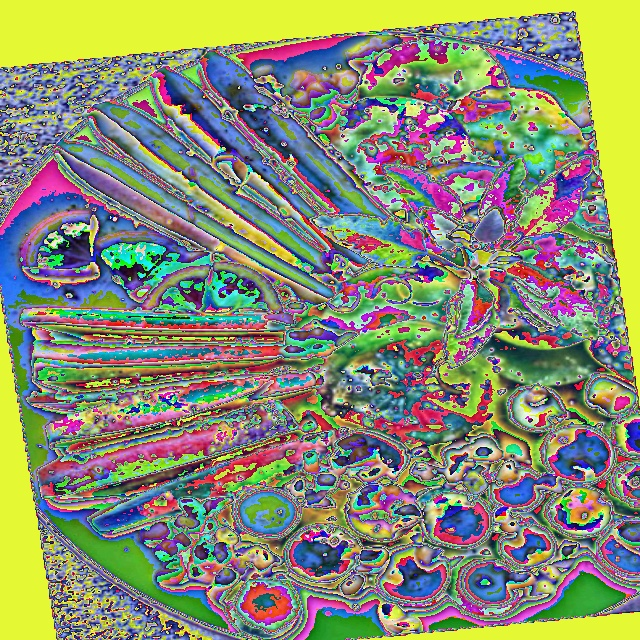background: (15, 32, 639, 639)
